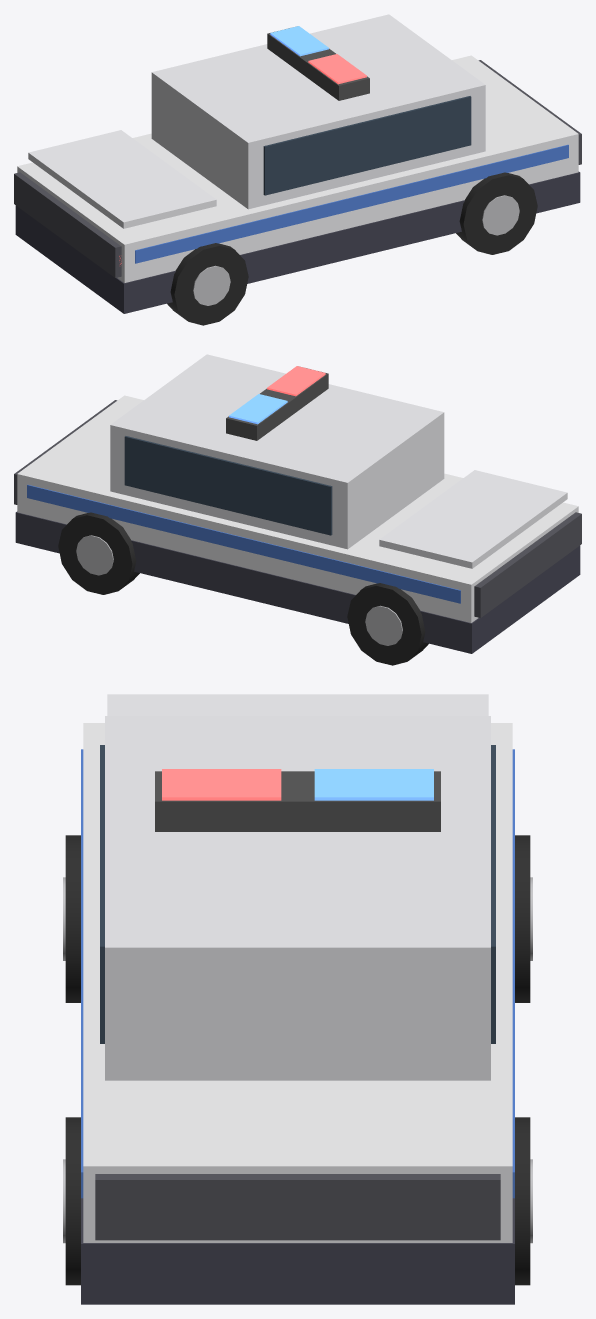
Rendered from policecar.glb.
3 views of the same model, one above another, from view 1: azimuth 30°, elevation 25°; view 2: azimuth 150°, elevation 25°; view 3: azimuth 270°, elevation 25° (orthographic). The views are drawn at different scales.
Parts seen in each view (by area): view 1: PoliceCar, trunk, bar, barB, barR; view 2: PoliceCar, trunk, bar, barR, barB; view 3: PoliceCar, bar, trunk, barR, barB.
Boxes of the visible parts, bbox=[...] form: PoliceCar: bbox=[14, 14, 581, 325]; trunk: bbox=[28, 130, 216, 228]; bar: bbox=[267, 28, 369, 100]; barB: bbox=[270, 26, 328, 56]; barR: bbox=[308, 54, 366, 84]; PoliceCar: bbox=[14, 354, 581, 665]; trunk: bbox=[379, 470, 567, 568]; bar: bbox=[226, 368, 328, 440]; barR: bbox=[267, 366, 325, 396]; barB: bbox=[229, 394, 287, 424]; PoliceCar: bbox=[63, 716, 532, 1304]; bar: bbox=[155, 771, 440, 831]; trunk: bbox=[107, 694, 488, 715]; barR: bbox=[162, 769, 281, 800]; barB: bbox=[314, 769, 433, 800].
Size of the model in its own units: 4.52 by 1.73 by 1.97.
